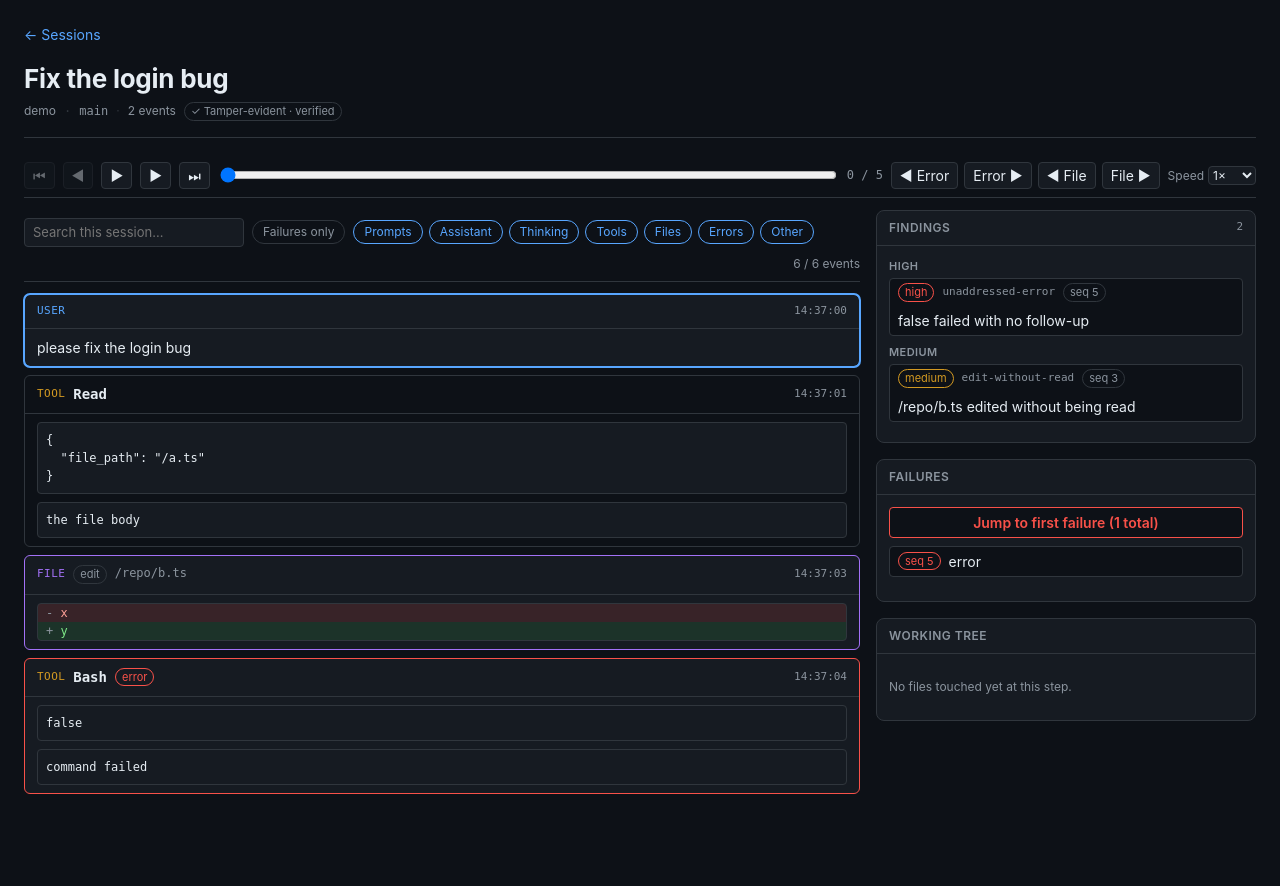
it: SessionDetailPage › selecting a Failure clears a previously-selected Finding, and vice versa
Check: the text "please fix the login bug" is shown, box [37, 338, 191, 356]
Click the button "edited without being read" at x=926, y=378, box [889, 364, 1243, 422]
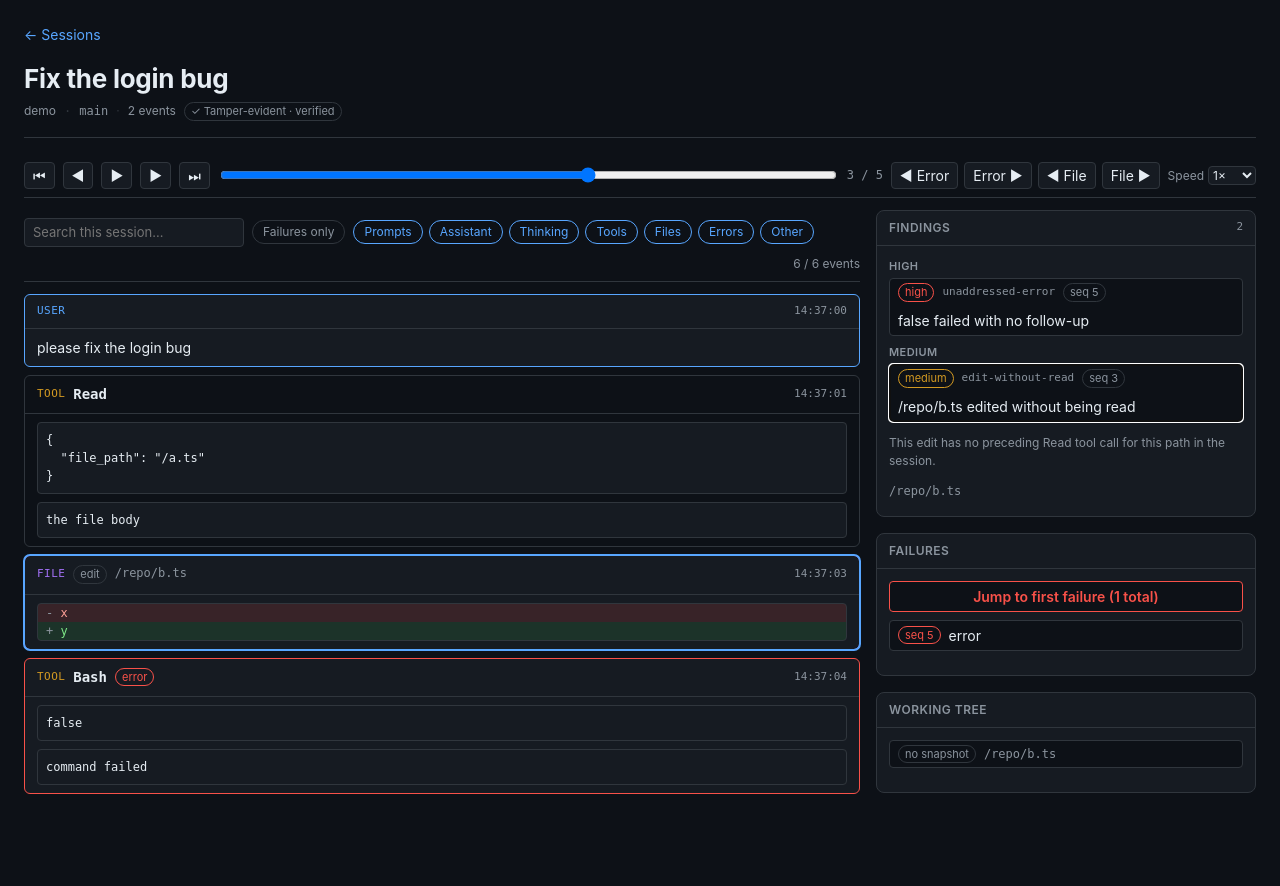
Check: the text "why did this happen" is not shown
Check: the text "no preceding Read tool call" is shown, box [889, 434, 1225, 468]
Click the button with class "failure-item" at x=919, y=635, box [889, 620, 1243, 650]
(page scrolled)
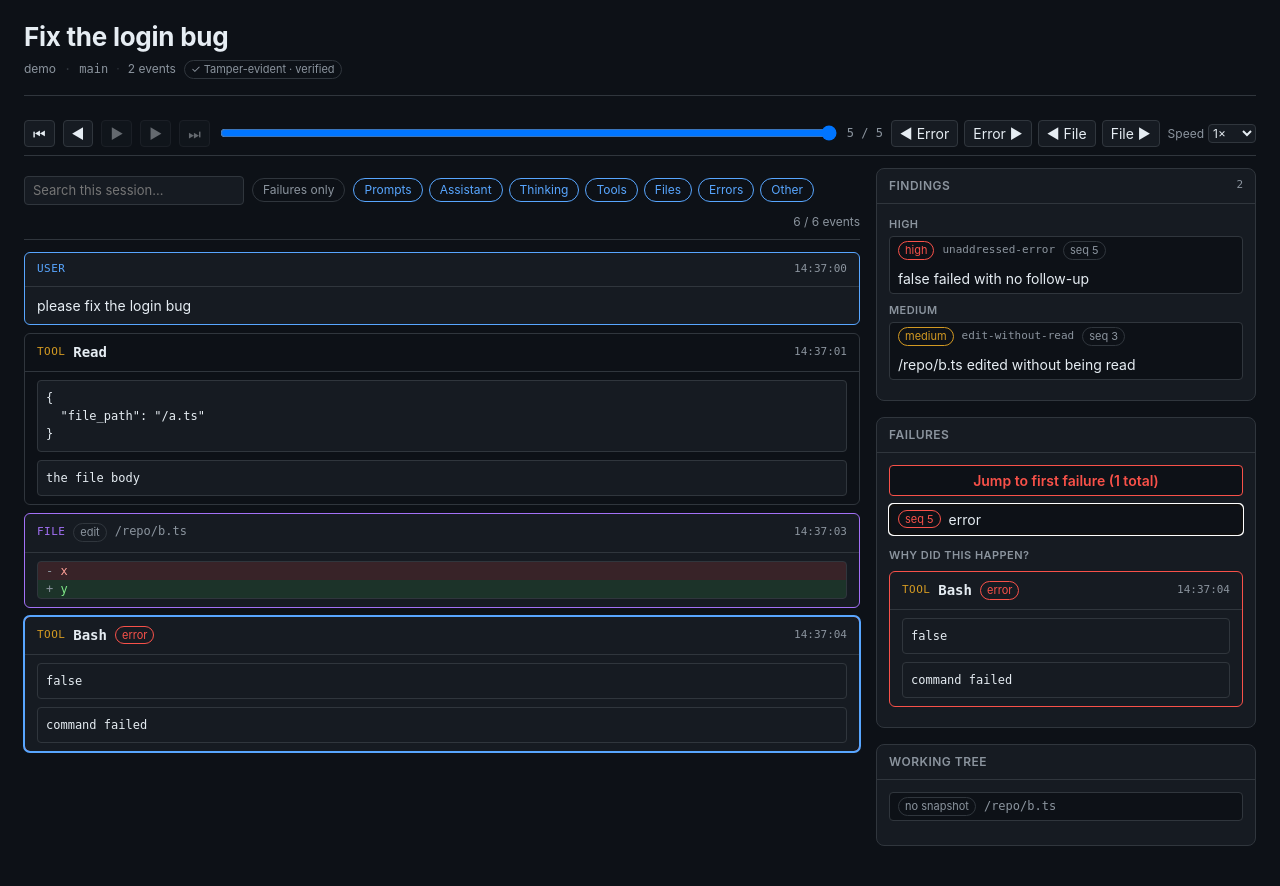
Check: the text "no preceding Read tool call" is gone
Check: the heading "Why did this happen?" is shown, box [889, 548, 1029, 562]
